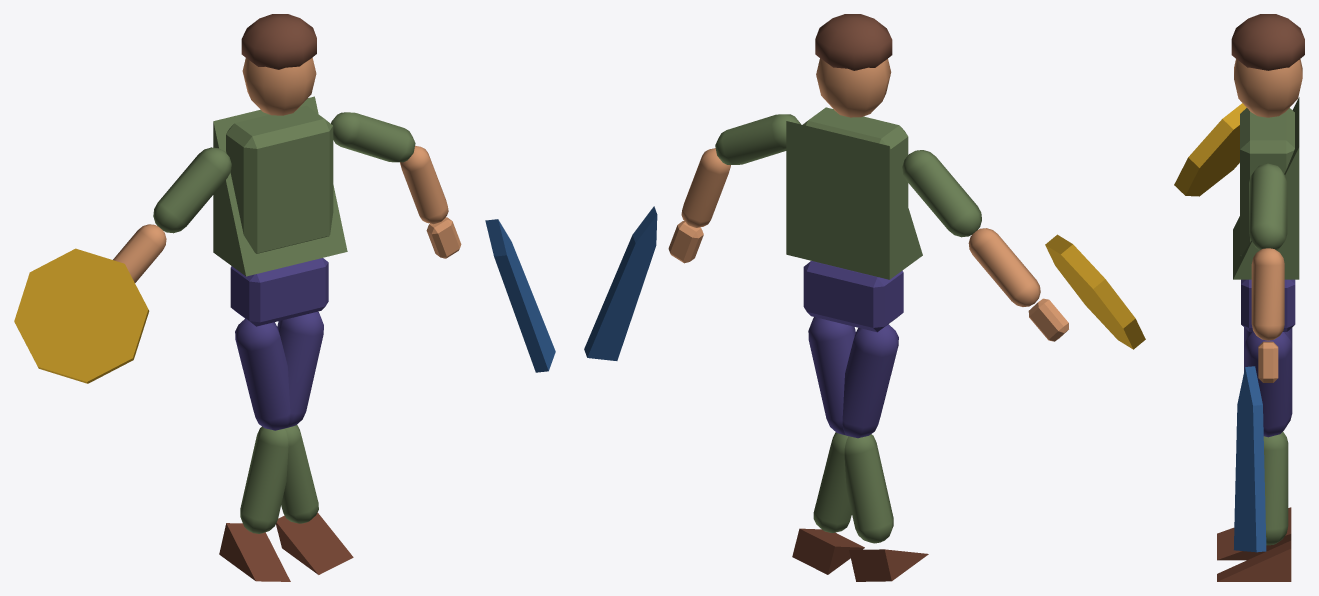
File: adventurer.rustic.glb
3 renders of one model, left to right at view 1: azimuth 30°, elevation 25°; view 2: azimuth 150°, elevation 25°; view 3: azimuth 270°, elevation 25°, orthographic.
Visible parts, largest first — view 1: accessory.off-hand, torso, tunic, pelvis, thigh.left, shin.right, accessory.main-hand, upper-arm.left, hair, thigh.right, head, upper-arm.right (+6 smaller); view 2: tunic, pelvis, thigh.left, accessory.main-hand, shin.right, accessory.off-hand, upper-arm.left, hair, thigh.right, head, forearm.left, upper-arm.right (+7 smaller); view 3: accessory.main-hand, torso, hair, accessory.off-hand, upper-arm.right, tunic, head, forearm.right, thigh.right, shin.left, foot.left, pelvis (+2 smaller).
Part boxes in pixels (x1,y1,x2,y2): accessory.off-hand: (14, 248, 149, 383); torso: (226, 105, 333, 253); tunic: (213, 96, 347, 276); pelvis: (230, 258, 328, 326); thigh.left: (235, 318, 290, 430); shin.right: (240, 426, 288, 533); accessory.main-hand: (485, 219, 555, 372); upper-arm.left: (153, 147, 231, 233); hair: (241, 14, 316, 69); thigh.right: (277, 311, 323, 427); head: (242, 57, 316, 115); upper-arm.right: (331, 112, 415, 162); tunic: (786, 121, 922, 279); pelvis: (803, 261, 903, 332); thigh.left: (842, 324, 898, 438); accessory.main-hand: (584, 206, 657, 360); shin.right: (844, 434, 893, 543); accessory.off-hand: (1045, 234, 1145, 349); upper-arm.left: (902, 150, 981, 237); hair: (815, 14, 892, 70); thigh.right: (808, 317, 855, 435); head: (816, 58, 891, 117); forearm.left: (968, 228, 1040, 306); upper-arm.right: (715, 114, 800, 164); accessory.main-hand: (1234, 366, 1266, 552); torso: (1240, 108, 1294, 255); hair: (1231, 14, 1304, 70); accessory.off-hand: (1174, 103, 1246, 196); upper-arm.right: (1249, 163, 1287, 250); tunic: (1233, 97, 1299, 279); head: (1234, 59, 1302, 117); forearm.right: (1251, 248, 1284, 340); thigh.right: (1244, 332, 1292, 437); shin.left: (1263, 432, 1288, 545); foot.left: (1217, 540, 1291, 581); pelvis: (1241, 279, 1295, 331).
Bounding box in the file's own units: 3.15 × 3.01 × 0.6513.
